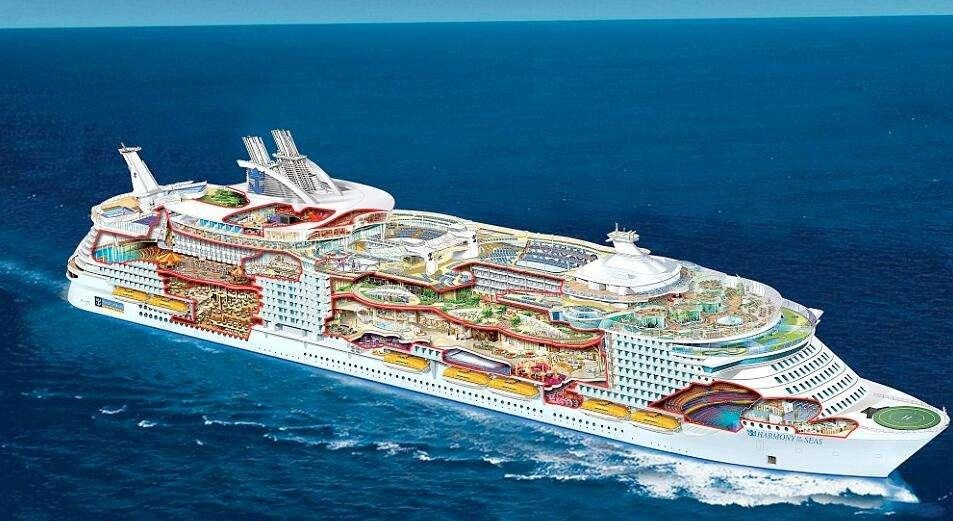youlun: (66, 132, 949, 485)
